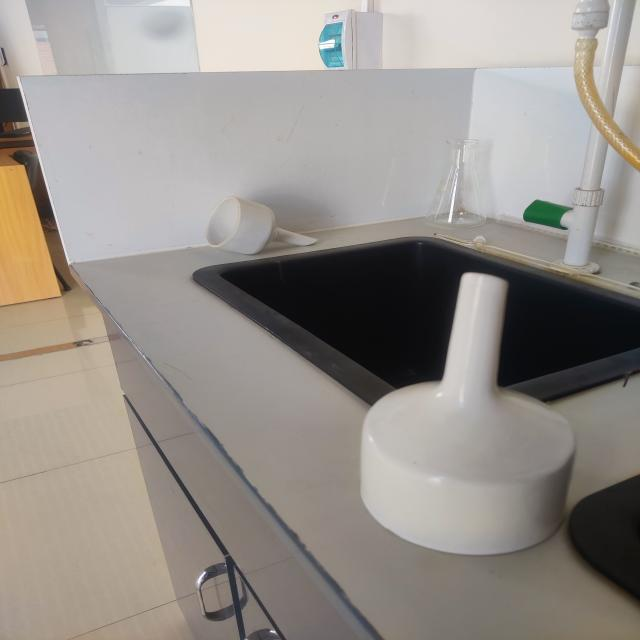Buchner_Funnel: (342, 264, 601, 574), (182, 160, 330, 280)
